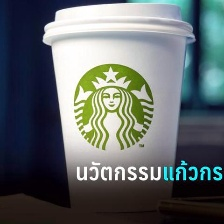paper_cup: (36, 0, 200, 195)
